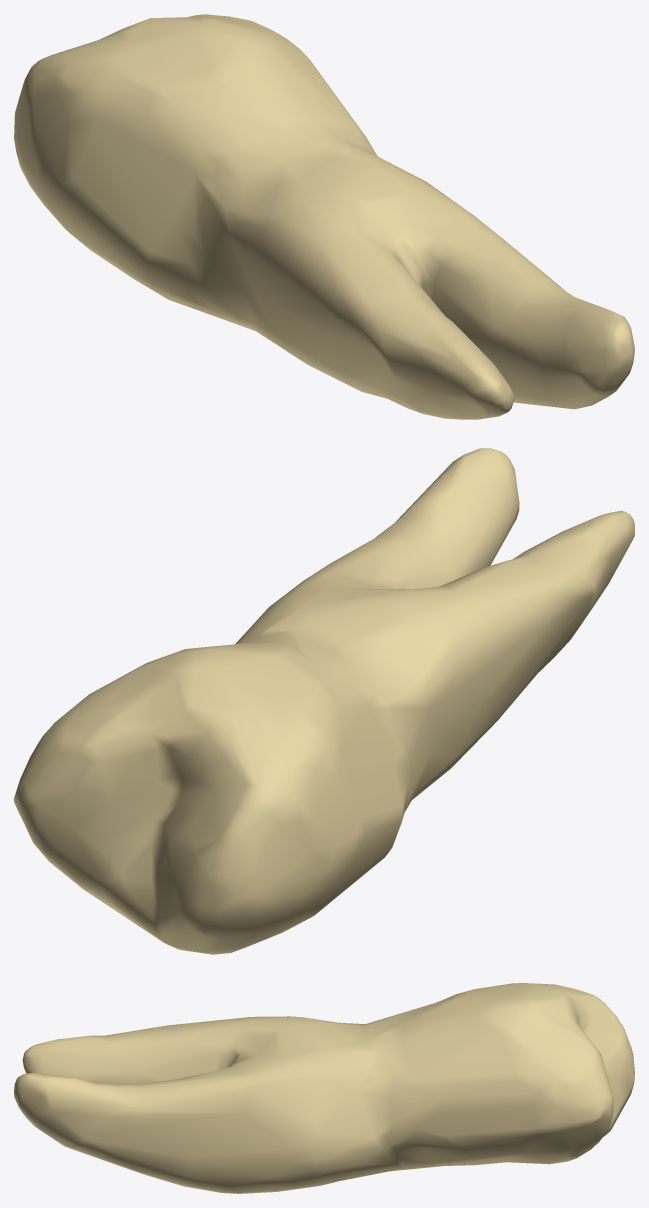
The picture shows the model from 3 angles, top to bottom: view 1: azimuth 30°, elevation 25°; view 2: azimuth 150°, elevation 25°; view 3: azimuth 270°, elevation 25°; orthographic projection. The views are drawn at different scales.
Parts seen in each view (by area): view 1: 右侧上颌第二前磨牙; view 2: 右侧上颌第二前磨牙; view 3: 右侧上颌第二前磨牙.
Part boxes in pixels (x1,y1,x2,y2): 右侧上颌第二前磨牙: (14,14,634,419); 右侧上颌第二前磨牙: (14,448,634,954); 右侧上颌第二前磨牙: (14,983,634,1193).
Bounding box in the file's own units: 0.0134 × 0.0109 × 0.0373.
